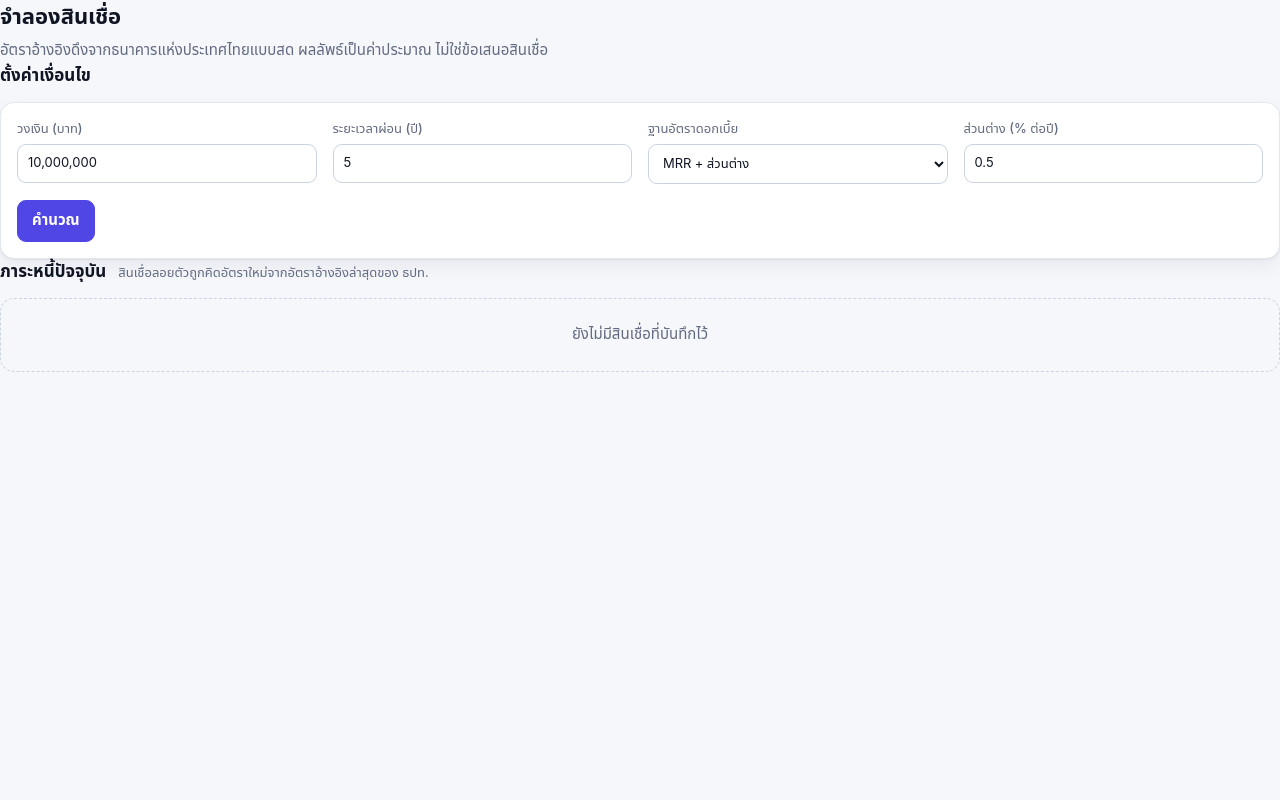
Test: ตารางผ่อนชำระ › ตารางเลื่อนในตัวเอง หัวตารางจึงไม่หลุดออกจากจอ
Click the button "คำนวณ". click: (56, 221)
box: [17, 200, 95, 242]
(page scrolled)
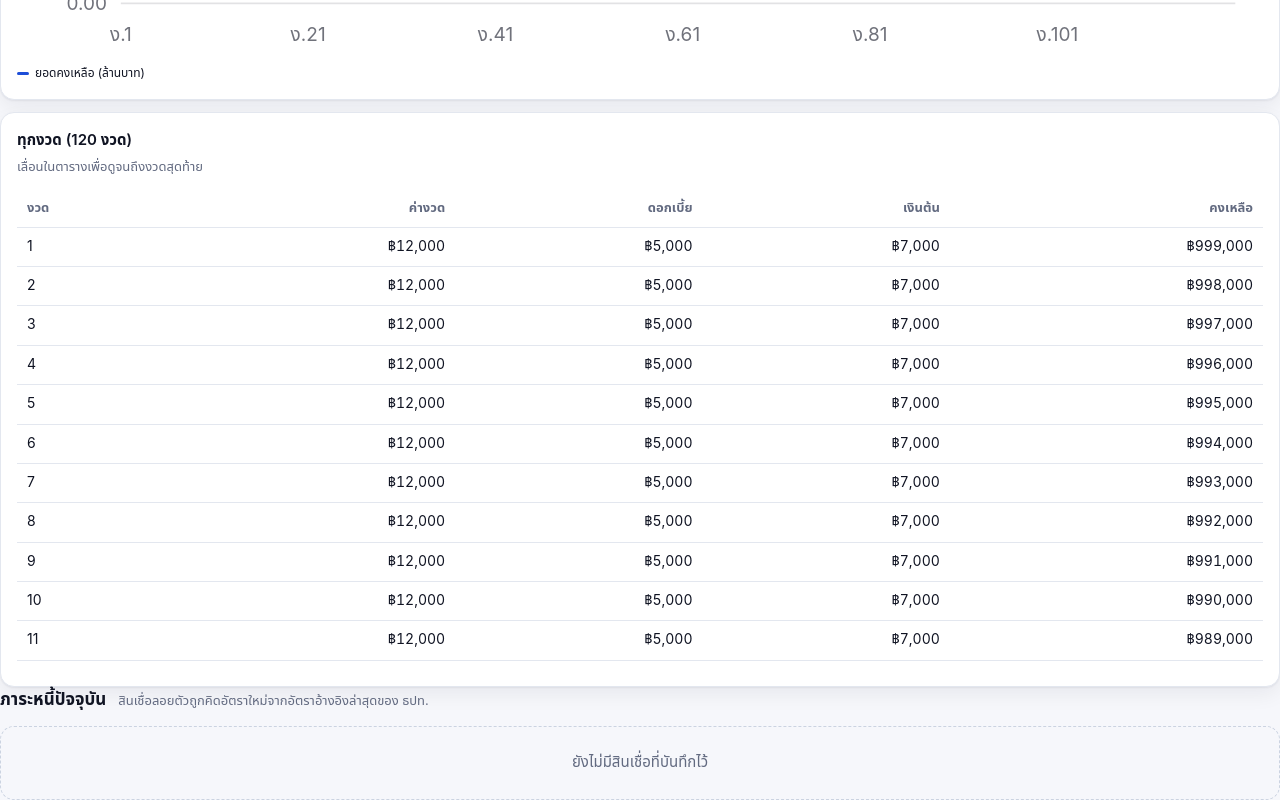
expect the heading "ทุกงวด (120 งวด)" is shown: met, box [17, 129, 132, 152]
expect the element with class "table-wrap--tall" is shown: met, box [17, 190, 1263, 670]
